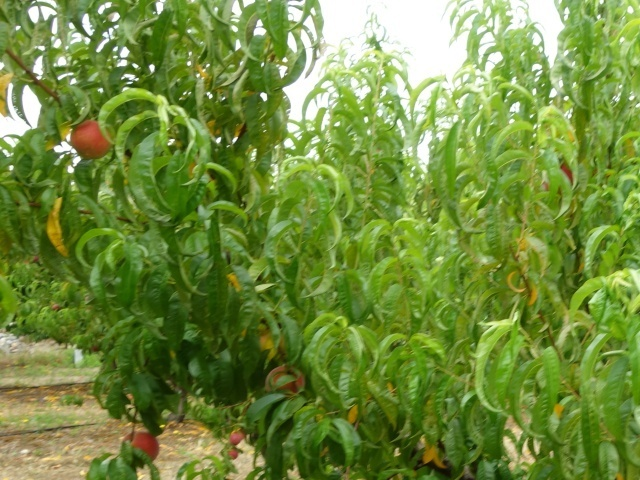peach: (65, 116, 113, 164), (262, 362, 308, 402), (117, 428, 162, 468)
